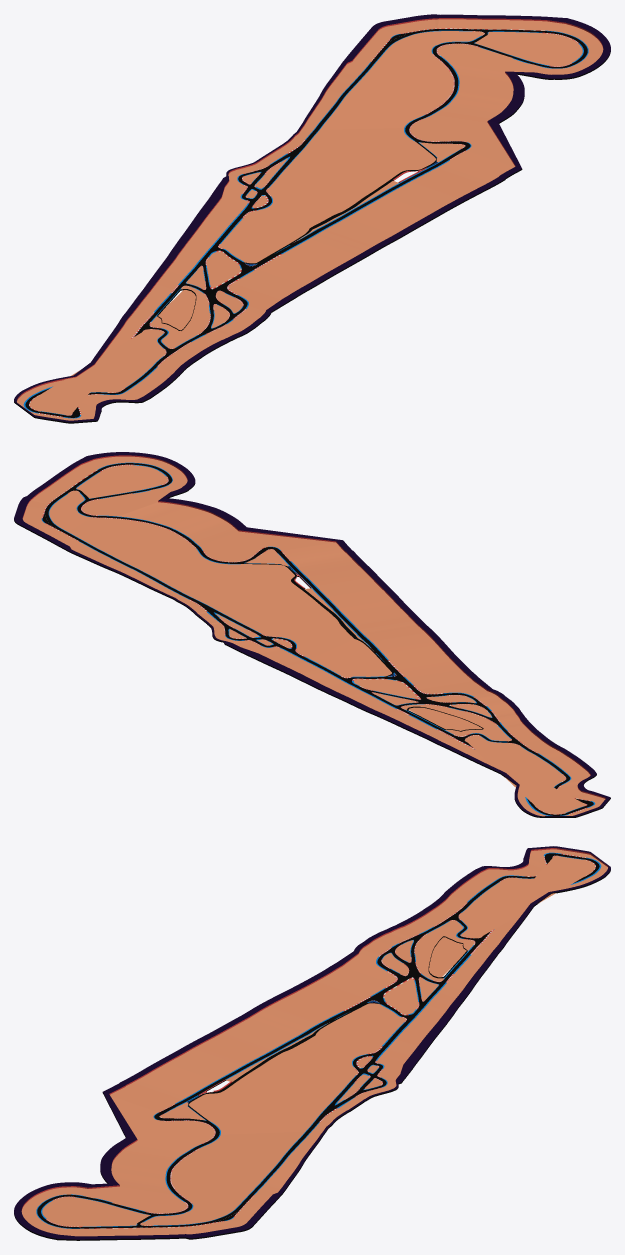
Rendered from PaulRicardnosides.fbx.
3 views of the same model, one above another, from view 1: azimuth 90°, elevation 25°; view 2: azimuth 150°, elevation 25°; view 3: azimuth 270°, elevation 25° (orthographic). The views are drawn at different scales.
Parts seen in each view (by area): view 1: Plane; view 2: Plane; view 3: Plane.
Boxes of the visible parts, box(x1,y1,x2,y2) form: Plane: box(14, 14, 610, 423); Plane: box(14, 452, 610, 817); Plane: box(14, 846, 610, 1240).
Size of the model in its own units: 559260 by 6328 by 352517.
